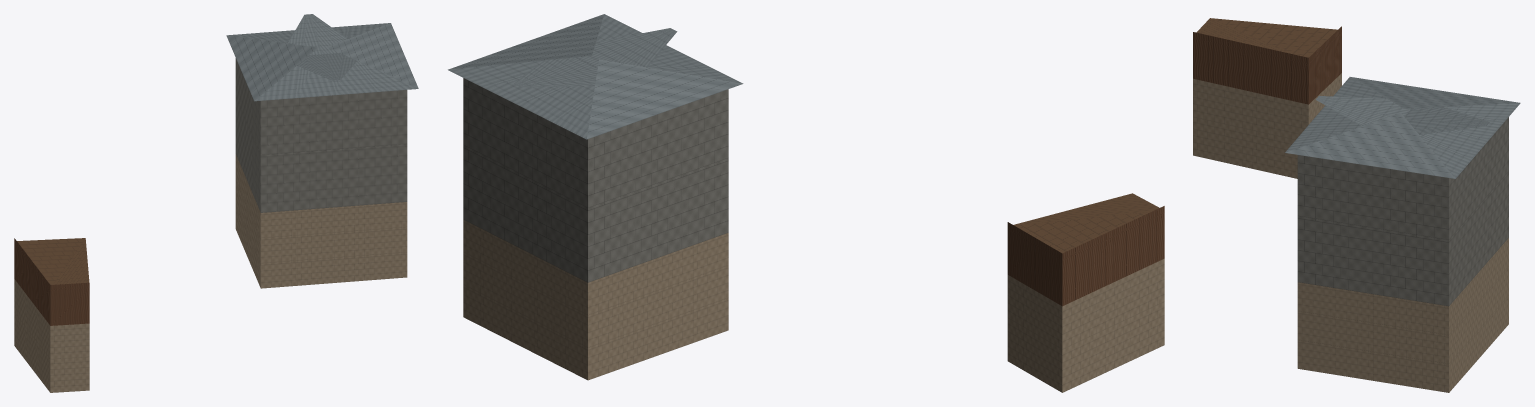
Rendered from bld_c31_-40_466.gltf.
3 views of the same model, side by side, from view 1: azimuth 30°, elevation 25°; view 2: azimuth 150°, elevation 25°; view 3: azimuth 270°, elevation 25° (orthographic). The views are drawn at different scales.
Parts seen in each view (by area): view 1: bld_c31_-40_466; view 2: bld_c31_-40_466; view 3: bld_c31_-40_466.
Part boxes in pixels (x1=…): bld_c31_-40_466: x1=14, y1=14, x2=418, y2=392; bld_c31_-40_466: x1=448, y1=14, x2=1164, y2=392; bld_c31_-40_466: x1=1193, y1=18, x2=1520, y2=392.
Bounding box in the file's own units: 31.6 × 13.9 × 17.48.
6 materials, 6 textured.
